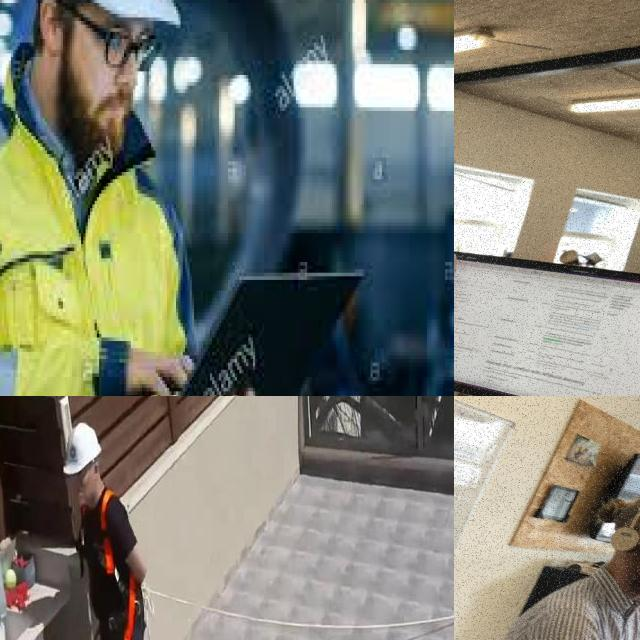Ear-protection: (581, 473, 640, 614), (15, 0, 187, 28)
Harness: (98, 491, 138, 640)
glasses: (76, 3, 162, 75)
person: (0, 0, 270, 396)
